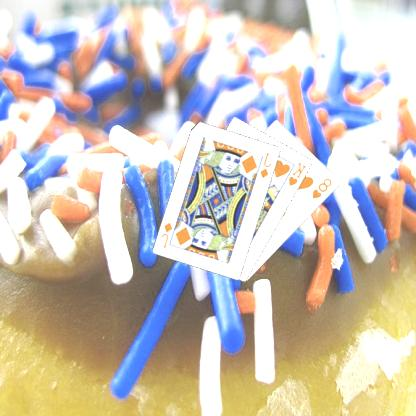8H: (312, 175, 335, 200)
JD: (259, 150, 275, 180), (160, 219, 176, 249)
KH: (288, 159, 310, 188)
